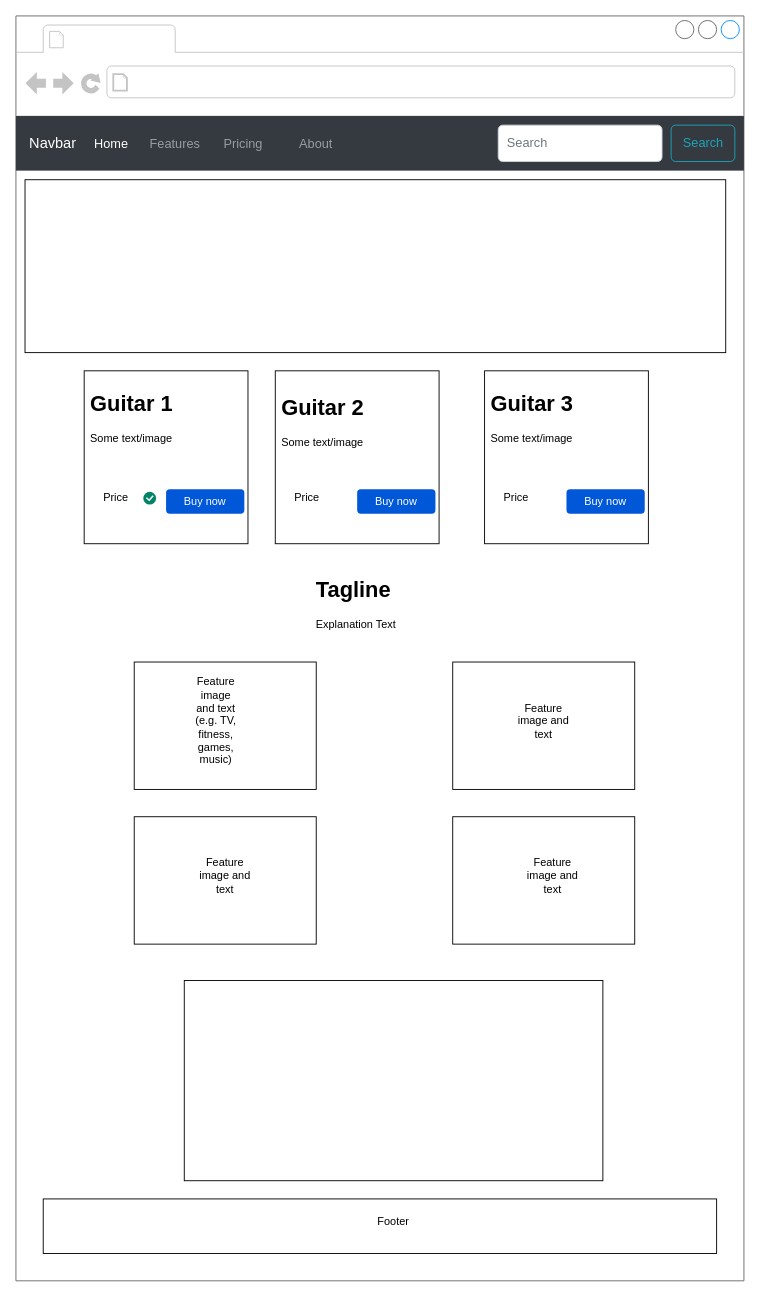
The diagram is 760 pixels wide and 1297 high, and some of its shapes have lost their labels. The shapes that lost their labels are listed below. From the top down, each one's centre as x and y in pixels, then its label:
At [120,38]: "Page 1".
At [247,82]: "https://www.draw.io".
At [375,266]: "Guitars Carousel".
At [393,1080]: "Buy Now - Call to Action".
